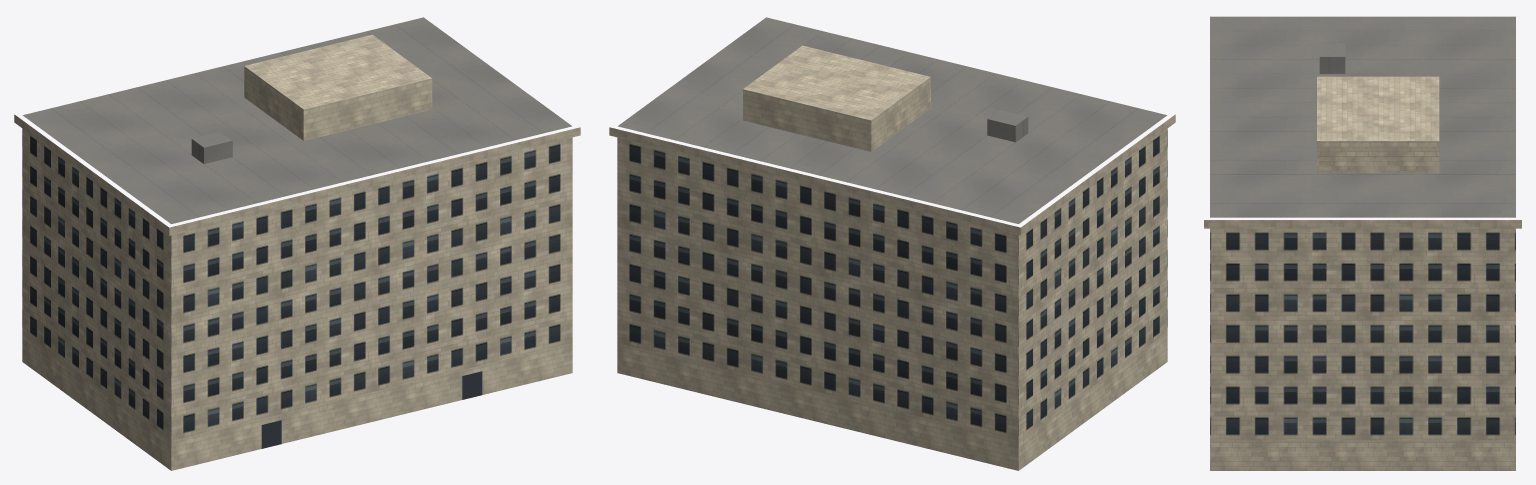
Rendered from dc_fed_plain.glb.
3 renders of one model, left to right at view 1: azimuth 30°, elevation 25°; view 2: azimuth 150°, elevation 25°; view 3: azimuth 270°, elevation 25°, orthographic. The views are drawn at different scales.
Parts seen in each view (by area): view 1: dc_fed_plain; view 2: dc_fed_plain; view 3: dc_fed_plain.
Part boxes in pixels (x1,y1,x2,y2): dc_fed_plain: [14, 17, 580, 470]; dc_fed_plain: [609, 17, 1175, 470]; dc_fed_plain: [1204, 16, 1521, 470].
Bounding box in the file's own units: 57.4 × 37.1 × 37.4.
Materials: 5 (5 with a texture image).
